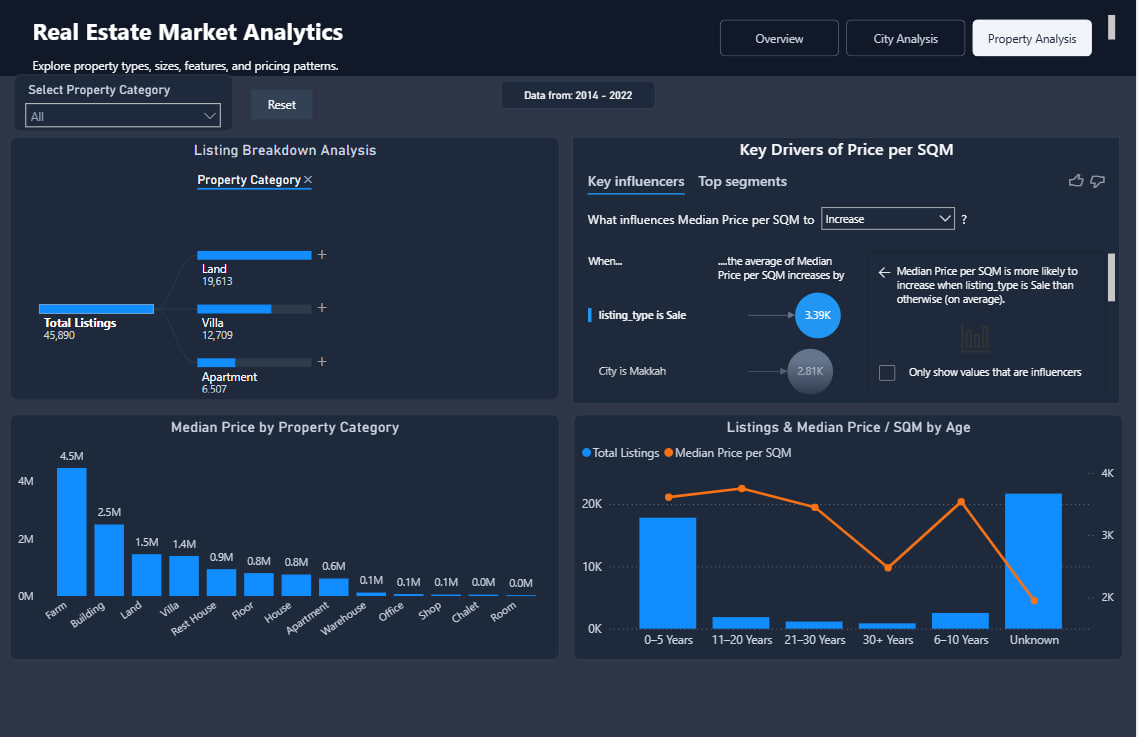

The page's visual inventory and layout, read from the dashboard file:
{"tool":"powerbi","page":{"name":"Property Analysis","canvas":[1300,850],"ordinal":2},"visuals":[{"type":"shape","box":[0,0,1300,90],"z":0},{"type":"keyDriversVisual","title":"Key Drivers of Price per SQM","fields":{"Target":["powerbi_real_estate_dashboard.Median Price per SQM"],"ExplainBy":["powerbi_real_estate_dashboard.Property_Category","powerbi_real_estate_dashboard.listing_type","powerbi_real_estate_dashboard.City","powerbi_real_estate_dashboard.beds","powerbi_real_estate_dashboard.bathrooms","powerbi_real_estate_dashboard.age","powerbi_real_estate_dashboard.street_width"]},"box":[656,160,624,304],"z":1000},{"type":"textbox","box":[0,16,1280,48],"z":2000},{"type":"textbox","box":[0,64,1280,48],"z":3000},{"type":"slicer","fields":{"Values":["powerbi_real_estate_dashboard.Property_Category"]},"box":[20,88,250,65],"z":4000},{"type":"actionButton","box":[290,105,70,34],"z":5000},{"type":"clusteredColumnChart","title":"Median Price by Property Category","fields":{"Category":["powerbi_real_estate_dashboard.Property_Category"],"Y":["powerbi_real_estate_dashboard.Median Price"]},"box":[16,476,626,280],"z":6000},{"type":"decompositionTreeVisual","title":"Listing Breakdown Analysis","fields":{"Analyze":["powerbi_real_estate_dashboard.Total Listings"],"ExplainBy":["powerbi_real_estate_dashboard.Property_Category","powerbi_real_estate_dashboard.district","powerbi_real_estate_dashboard.City","powerbi_real_estate_dashboard.listing_type"]},"box":[16,160,626,300],"z":7000},{"type":"lineClusteredColumnComboChart","title":"Listings & Median Price / SQM by Age","fields":{"Category":["powerbi_real_estate_dashboard.Age Band"],"Y":["powerbi_real_estate_dashboard.Total Listings"],"Y2":["powerbi_real_estate_dashboard.Median Price per SQM"]},"box":[658,476,626,280],"z":8000},{"type":"pageNavigator","box":[825,25,425,42],"z":9000},{"type":"card","fields":{"Values":["powerbi_real_estate_dashboard.Last Refresh Clean"]},"box":[576,96,176,32],"z":10000}]}

Visuals, with their boxes in screenshot pixels (x1, y1, x2, y2), scaled from the page's 1300x850 canvas onto the 1138x737 screenshot:
shape: bbox=[0, 0, 1137, 78]
"Key Drivers of Price per SQM" keyDriversVisual: bbox=[574, 139, 1120, 402]
textbox: bbox=[0, 14, 1120, 55]
textbox: bbox=[0, 55, 1120, 97]
slicer - powerbi_real_estate_dashboard.Property_Category: bbox=[18, 76, 236, 133]
actionButton: bbox=[254, 91, 315, 121]
"Median Price by Property Category" clusteredColumnChart: bbox=[14, 413, 562, 655]
"Listing Breakdown Analysis" decompositionTreeVisual: bbox=[14, 139, 562, 399]
"Listings & Median Price / SQM by Age" lineClusteredColumnComboChart: bbox=[576, 413, 1124, 655]
pageNavigator: bbox=[722, 22, 1094, 58]
card - powerbi_real_estate_dashboard.Last Refresh Clean: bbox=[504, 83, 658, 111]
